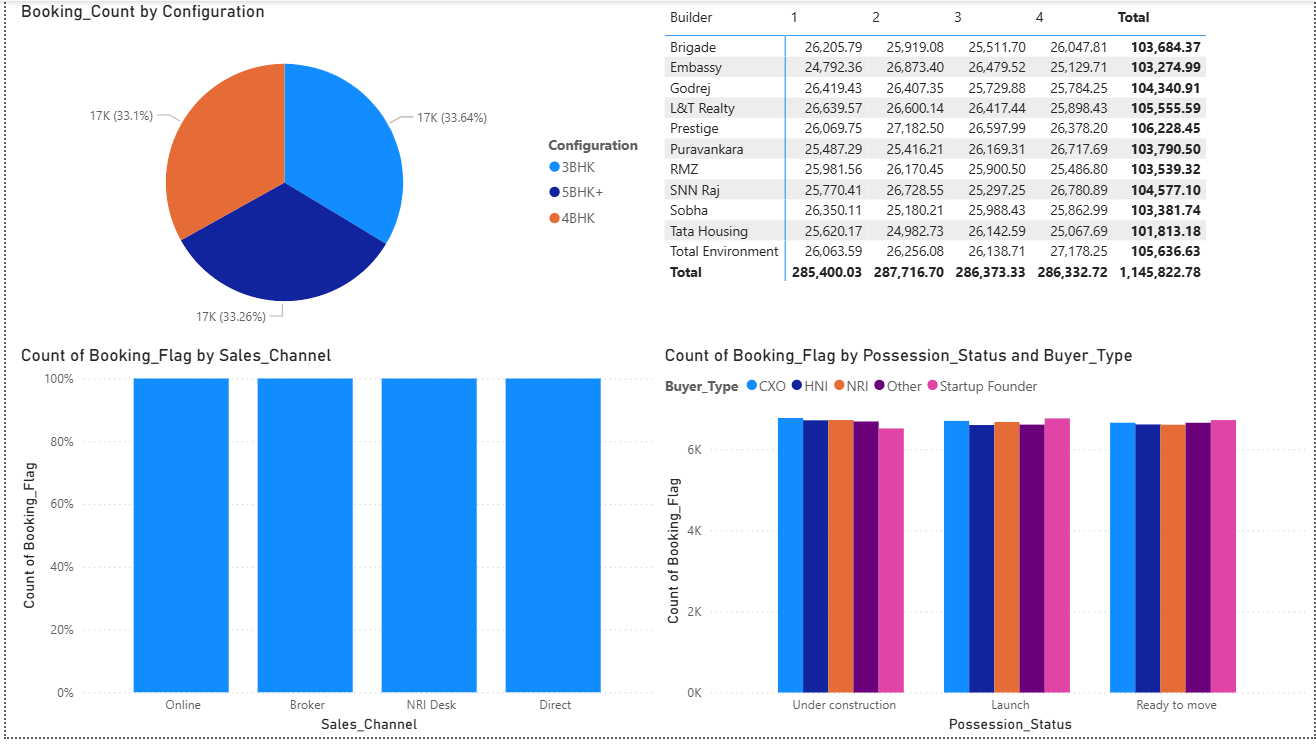

The dashboard page shown, as its layout file describes it:
{"tool":"powerbi","page":{"name":"Page 2","canvas":[1280,720],"ordinal":1},"visuals":[{"type":"pieChart","fields":{"Y":["luxury_housing luxury_housing.Booking_Count"],"Category":["luxury_housing luxury_housing.Configuration"]},"box":[9.8,0,629.8,336.3],"z":0},{"type":"hundredPercentStackedColumnChart","fields":{"Category":["luxury_housing luxury_housing.Sales_Channel"],"Y":["CountNonNull(luxury_housing luxury_housing.Booking_Flag)"]},"box":[9.8,336.3,629.8,384],"z":1000},{"type":"pivotTable","fields":{"Rows":["luxury_housing luxury_housing.Builder"],"Columns":["luxury_housing luxury_housing.Quarter_Number"],"Values":["luxury_housing luxury_housing.Quarterly_Ticket_Sales"]},"box":[639.5,0,640.8,316.7],"z":2000},{"type":"clusteredColumnChart","fields":{"Category":["luxury_housing luxury_housing.Possession_Status"],"Series":["luxury_housing luxury_housing.Buyer_Type"],"Y":["CountNonNull(luxury_housing luxury_housing.Booking_Flag)"]},"box":[639.5,336.3,640.8,384],"z":3000}]}

Visuals, with their boxes in screenshot pixels (x1, y1, x2, y2), scaled from the page's 1280x720 canvas onto the 1316x746 screenshot:
pieChart - luxury_housing luxury_housing.Booking_Count x luxury_housing luxury_housing.Configuration: select_region(10, 0, 658, 348)
hundredPercentStackedColumnChart - luxury_housing luxury_housing.Sales_Channel x CountNonNull(luxury_housing luxury_housing.Booking_Flag): select_region(10, 348, 658, 745)
pivotTable - luxury_housing luxury_housing.Builder x luxury_housing luxury_housing.Quarter_Number: select_region(657, 0, 1315, 328)
clusteredColumnChart - luxury_housing luxury_housing.Possession_Status x luxury_housing luxury_housing.Buyer_Type: select_region(657, 348, 1315, 745)
